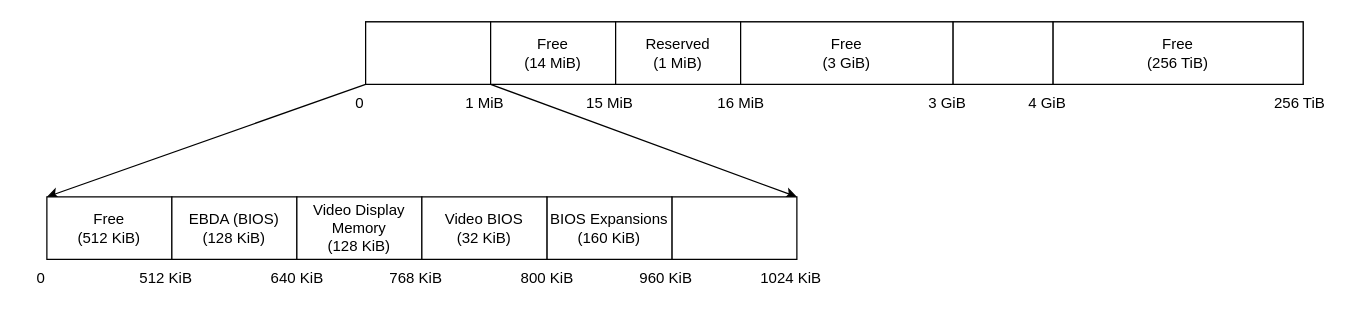
The diagram is 1358 pixels wide and 319 high, and some of its shapes have lost their labels. Here are the shapes that lost their labels. From the top down, the box of each, then its label:
(364, 21, 491, 84): Real Mode Address Space (1 MiB)
(952, 21, 1053, 84): Reserved (1 GiB)
(671, 196, 797, 259): Motherboard BIOS (64 KiB)
